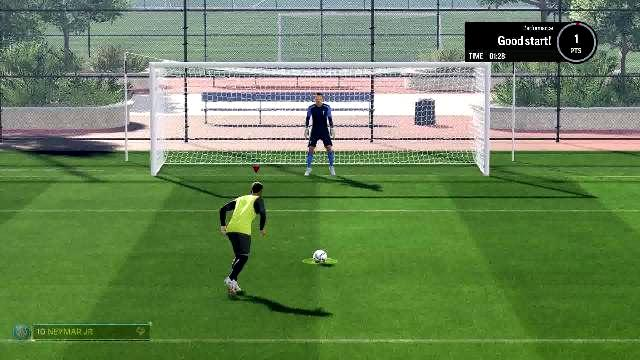bottom-left: (160, 124, 260, 174)
bottom-right: (374, 122, 480, 174)
center-down: (260, 124, 370, 176)
center-up: (262, 68, 372, 122)
circle: (303, 257, 339, 263)
football: (313, 250, 329, 264)
goalkeeper: (299, 92, 345, 178)
player: (218, 180, 274, 298)
top-left: (157, 67, 261, 123)
top-right: (374, 70, 482, 122)
